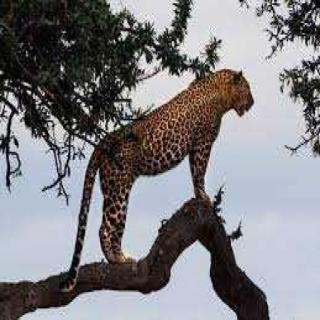Leopard: (69, 52, 287, 258)
